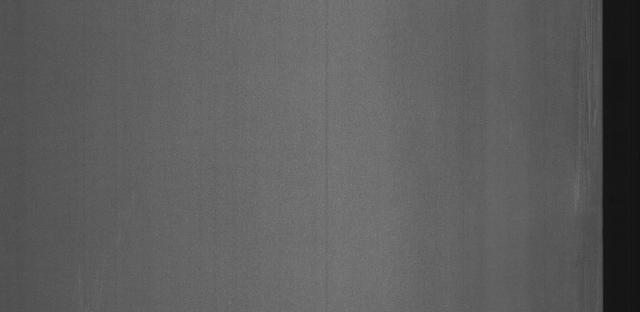silk_spot: (569, 17, 600, 205)
